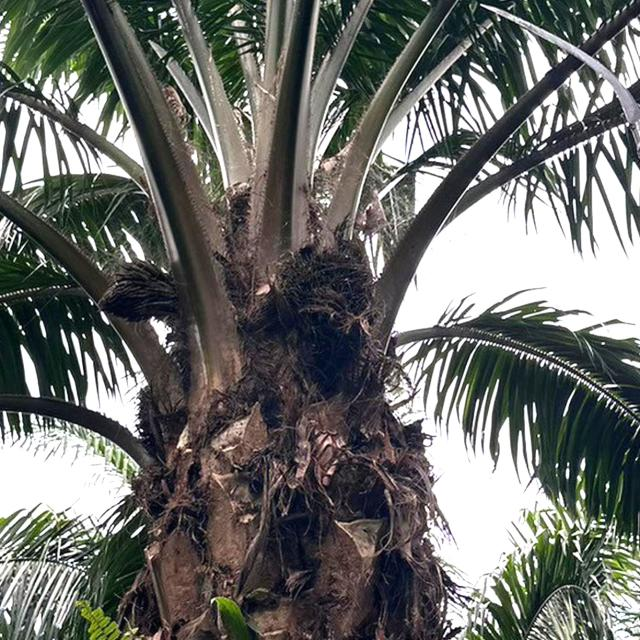unripe: (269, 236, 389, 352)
